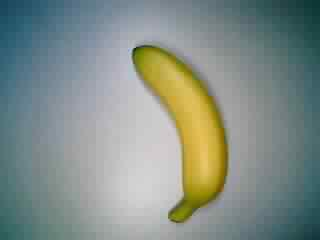banana: (128, 43, 229, 224)
